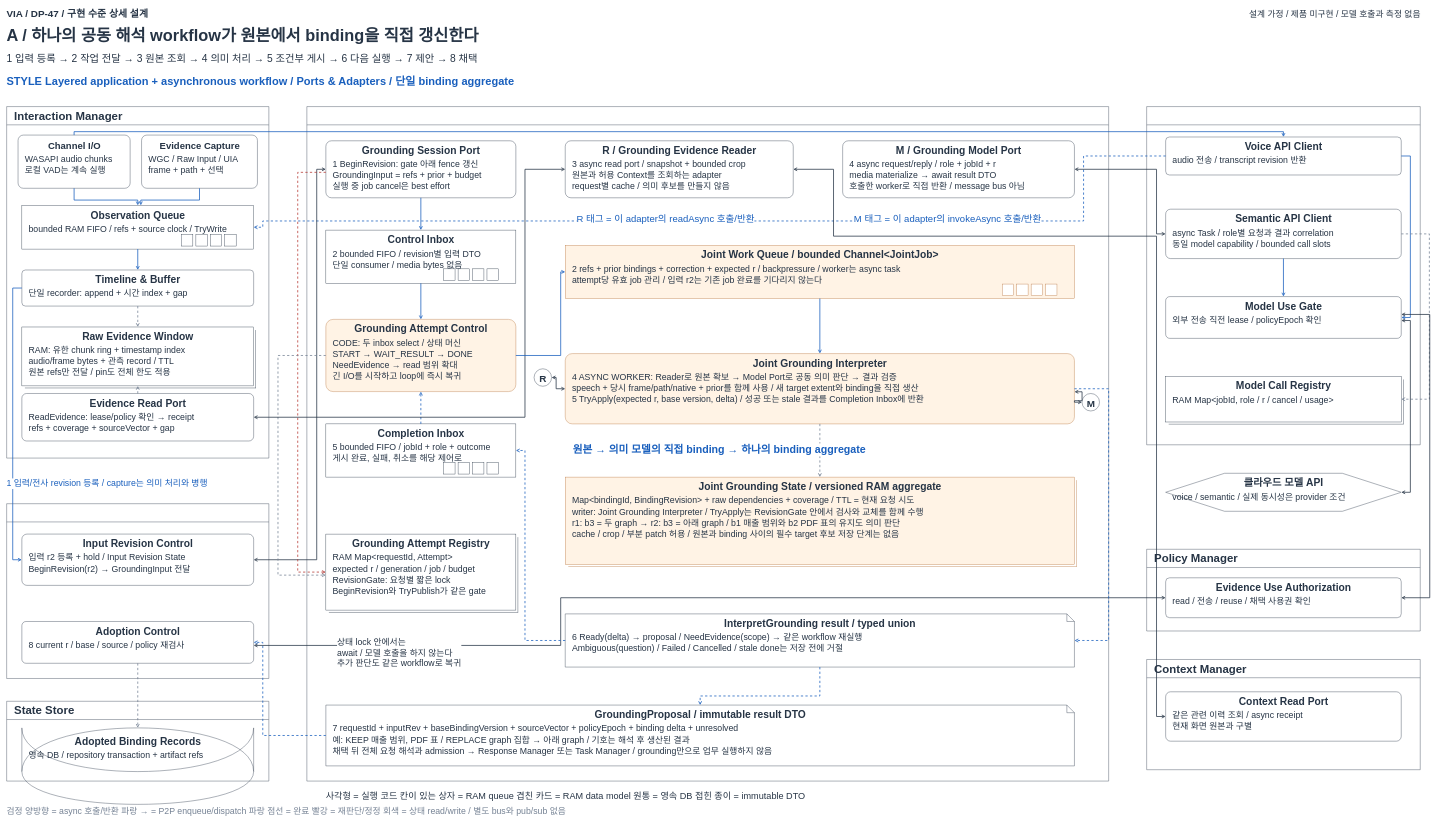
This 1440x823 diagram has some shape labels left out. The box of each missing label's shape, as (x1, y1, x2, y2) in pixels:
Model Access / shared adapter: (1146, 106, 1420, 445)
Request Controller: (6, 503, 269, 678)
Request Interpreter / local in-process async tasks: (306, 106, 1109, 781)
